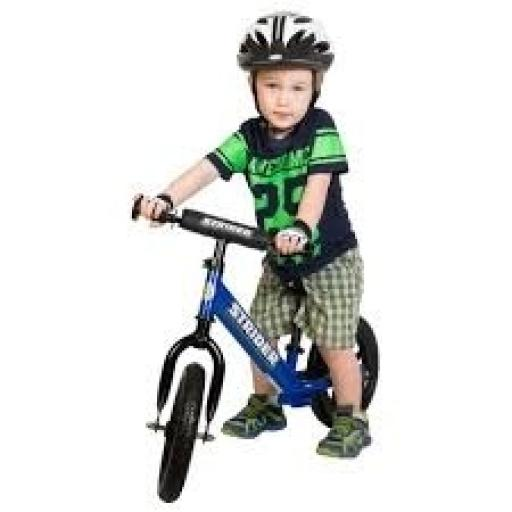cycling: (127, 7, 378, 464)
